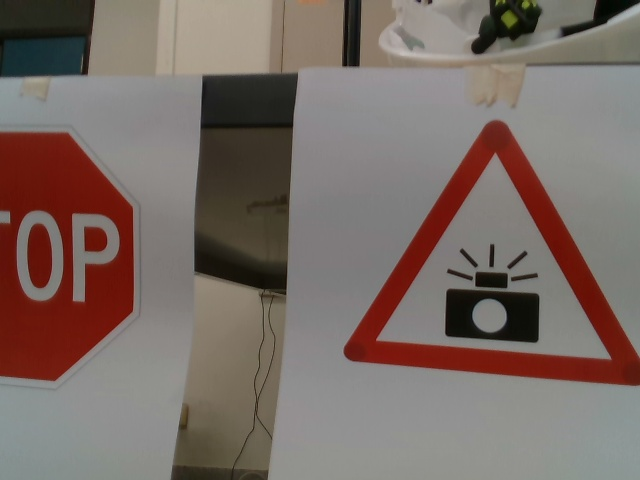camera: (343, 117, 640, 388)
